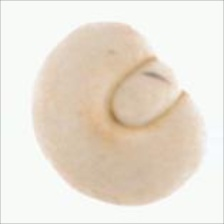L5: (103, 54, 189, 132), (36, 138, 85, 193)
L6: (28, 18, 207, 210)
